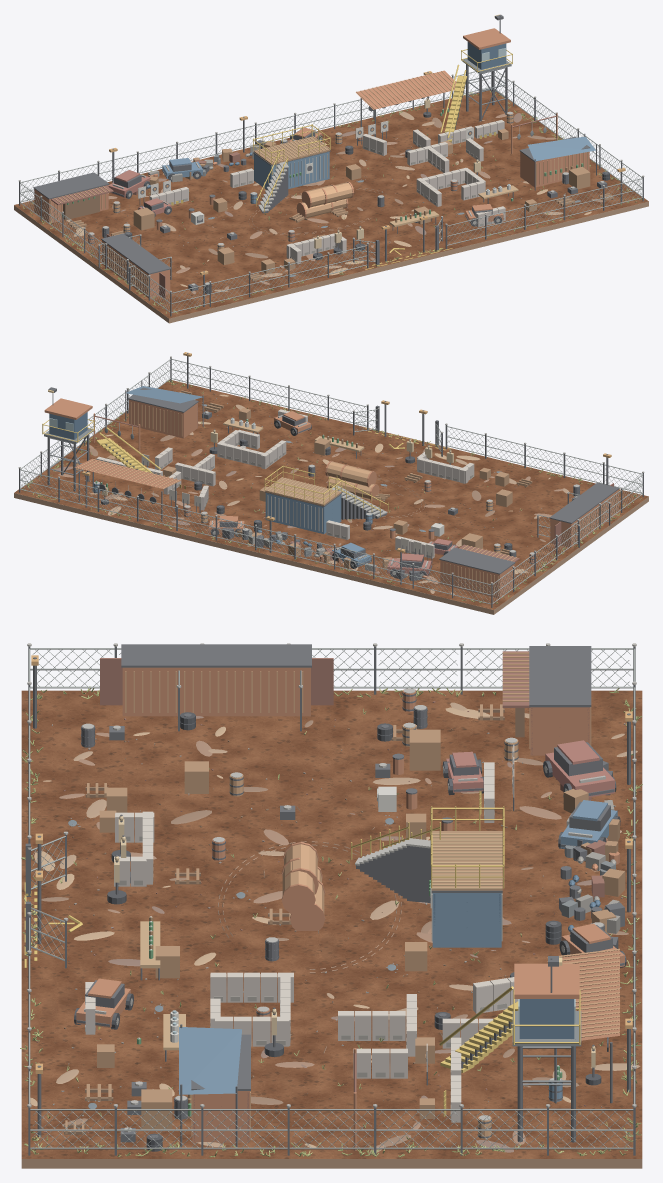
The model's file is scrapyard_arena.glb.
3 views of the same model, one above another, from view 1: azimuth 30°, elevation 25°; view 2: azimuth 150°, elevation 25°; view 3: azimuth 270°, elevation 25° (orthographic). The views are drawn at different scales.
Visible parts, largest first — view 1: Renderer Node; view 2: Renderer Node; view 3: Renderer Node.
Part boxes in pixels (x1=…): Renderer Node: x1=14, y1=14, x2=648, y2=323; Renderer Node: x1=14, y1=352, x2=648, y2=614; Renderer Node: x1=20, y1=643, x2=642, y2=1168.
Bounding box in the file's own units: 50.22 × 9.68 × 28.11.
36 materials, 1 textured.
